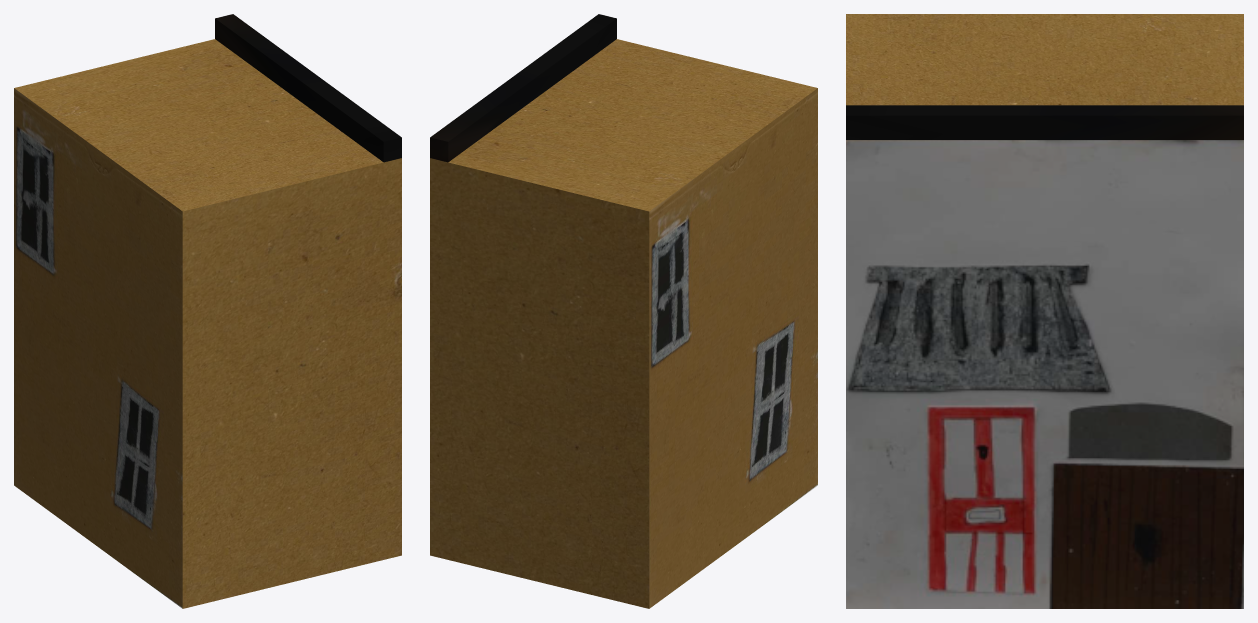
3 views of the same model, side by side, from view 1: azimuth 30°, elevation 25°; view 2: azimuth 150°, elevation 25°; view 3: azimuth 270°, elevation 25° (orthographic). The views are drawn at different scales.
Parts seen in each view (by area): view 1: Cube, Cube.001; view 2: Cube, Cube.001; view 3: Cube, Cube.001.
Part boxes in pixels (x1=…): Cube: x1=14, y1=88, x2=401, y2=608; Cube.001: x1=14, y1=14, x2=401, y2=211; Cube: x1=430, y1=88, x2=817, y2=608; Cube.001: x1=430, y1=14, x2=817, y2=211; Cube: x1=846, y1=140, x2=1243, y2=608; Cube.001: x1=846, y1=14, x2=1243, y2=139.
Bounding box in the file's own units: 7.5 × 13.67 × 10.
Materials: 1 (1 with a texture image).
